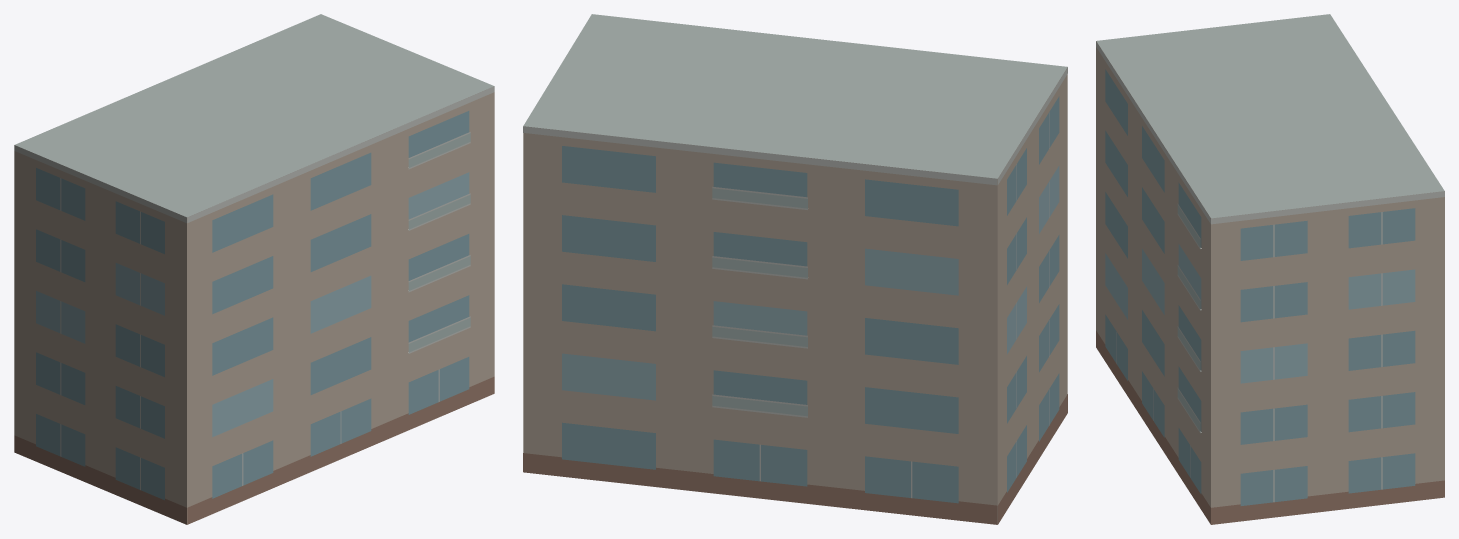
File: survey-upis-32653638.glb
The picture shows the model from 3 angles, left to right: view 1: azimuth 30°, elevation 25°; view 2: azimuth 150°, elevation 25°; view 3: azimuth 270°, elevation 25°; orthographic projection. The views are drawn at different scales.
Parts seen in each view (by area): view 1: survey-upis-32653638.tmp; view 2: survey-upis-32653638.tmp; view 3: survey-upis-32653638.tmp.
Part boxes in pixels (box(x1,y1,x2,y2)): survey-upis-32653638.tmp: box(14, 14, 494, 524); survey-upis-32653638.tmp: box(523, 14, 1067, 524); survey-upis-32653638.tmp: box(1096, 14, 1444, 524).
Bounding box in the file's own units: 18.04 × 12.6 × 13.01.
